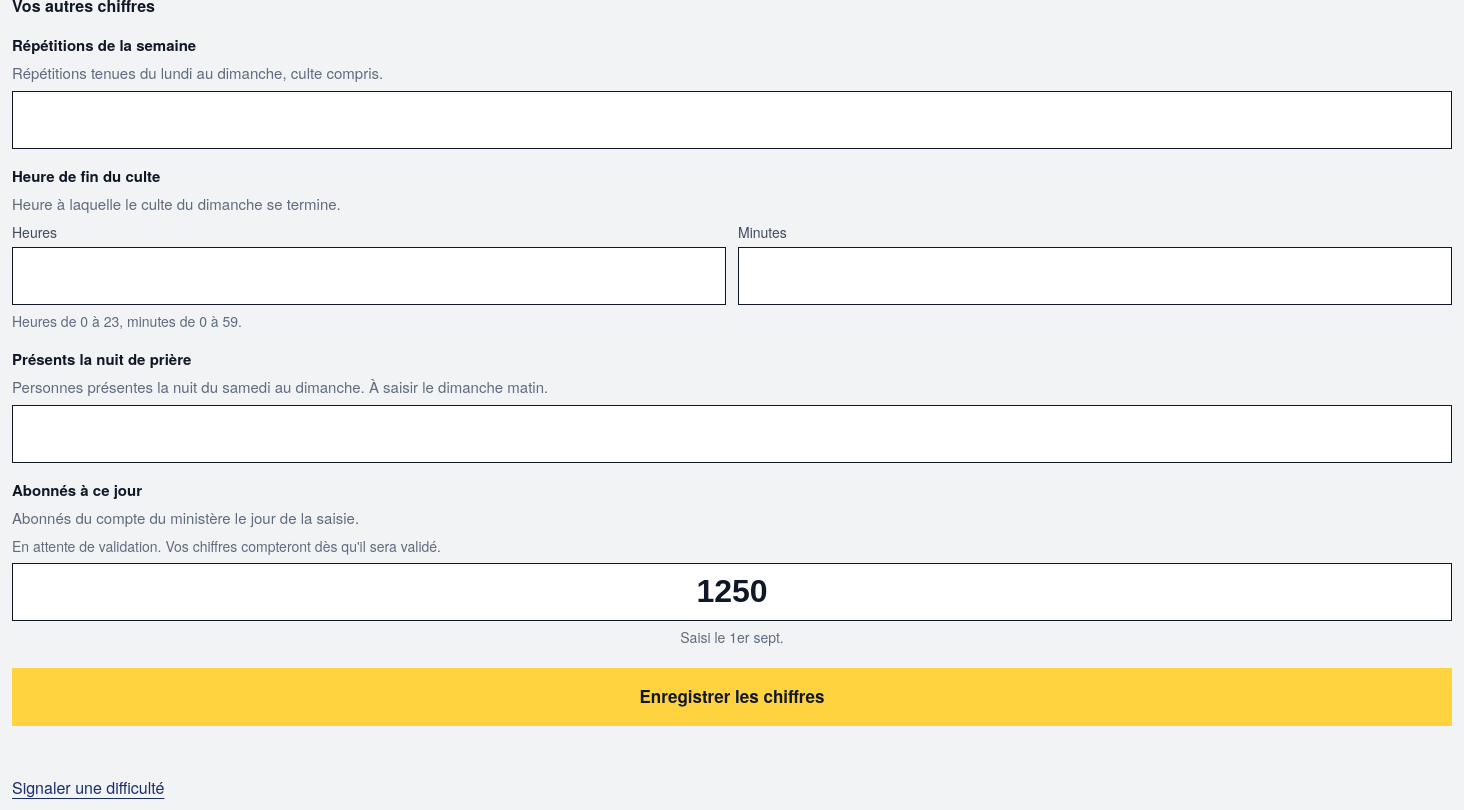
FormulaireDimanche (maquette 08) › les STARs au service manquent : le message sous le champ, le focus y va, rien ne part
This screenshot has width=1464, height=810.
(page scrolled)
Click the button named "Enregistrer les chiffres": point(732, 696) [12,668,1452,726]
(page scrolled)
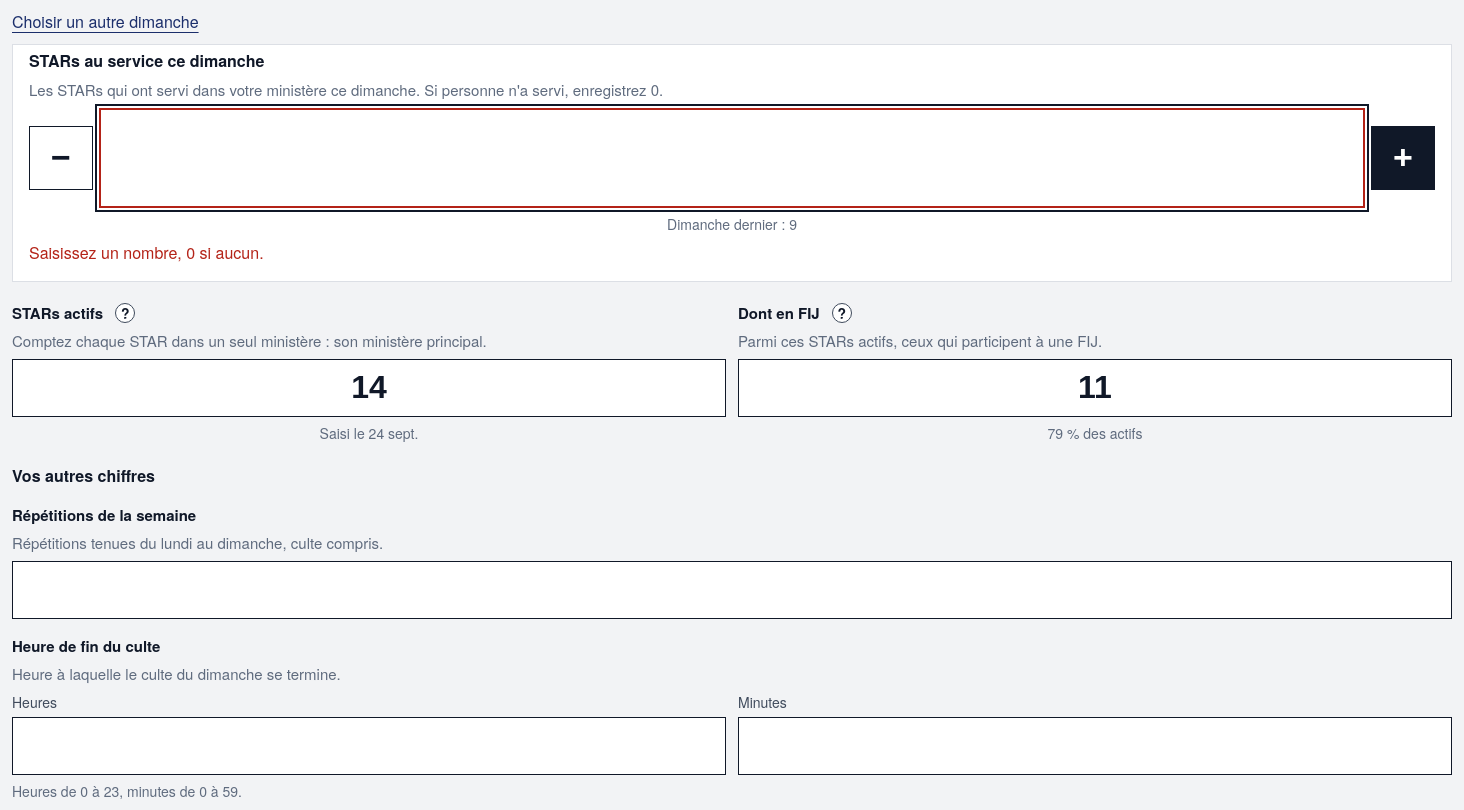
Expected: the text "Saisissez un nombre, 0 si aucun." is shown, [29,240,264,264]
